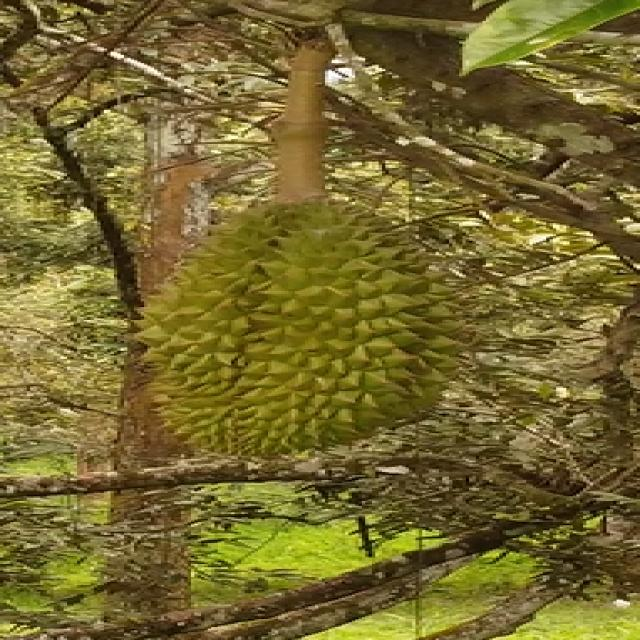immature: (132, 196, 463, 454)
